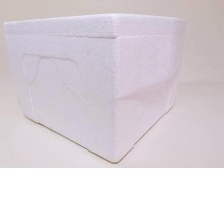foam_box: (0, 9, 187, 166)
